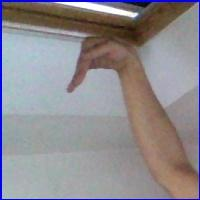del: (63, 33, 143, 97)
